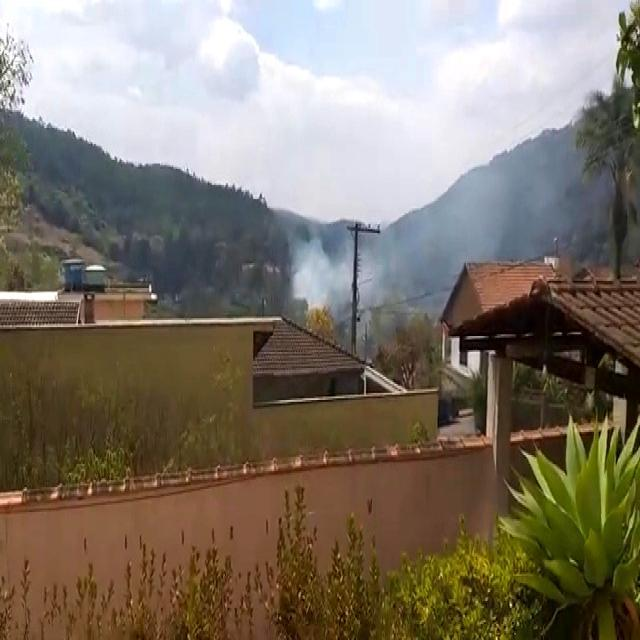Smoke: (281, 217, 430, 321)
